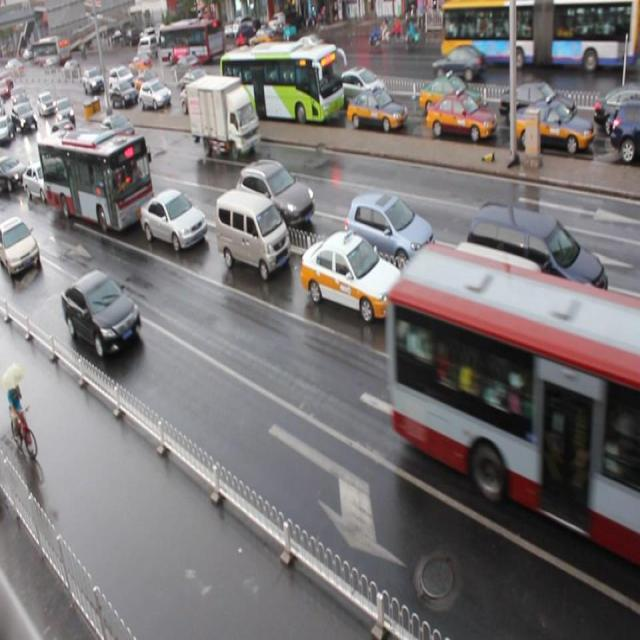bus: (186, 75, 262, 163)
car: (299, 228, 402, 322), (344, 193, 433, 273), (62, 271, 142, 357), (237, 158, 313, 234), (514, 99, 594, 159), (138, 187, 206, 252), (425, 92, 496, 143), (499, 82, 574, 128), (608, 331, 640, 435), (345, 86, 406, 134), (416, 76, 481, 120), (333, 65, 391, 110), (1, 217, 40, 280), (590, 92, 640, 134), (608, 99, 640, 160), (21, 158, 60, 203), (101, 114, 137, 152), (180, 82, 219, 114), (224, 69, 257, 104), (179, 69, 218, 97), (139, 80, 171, 112), (1, 155, 27, 189), (52, 121, 79, 153), (109, 81, 134, 110), (135, 69, 160, 93)
truck: (438, 240, 566, 388), (465, 200, 607, 332), (213, 187, 289, 281)
van: (390, 240, 640, 564), (37, 126, 154, 235), (216, 42, 339, 125)
